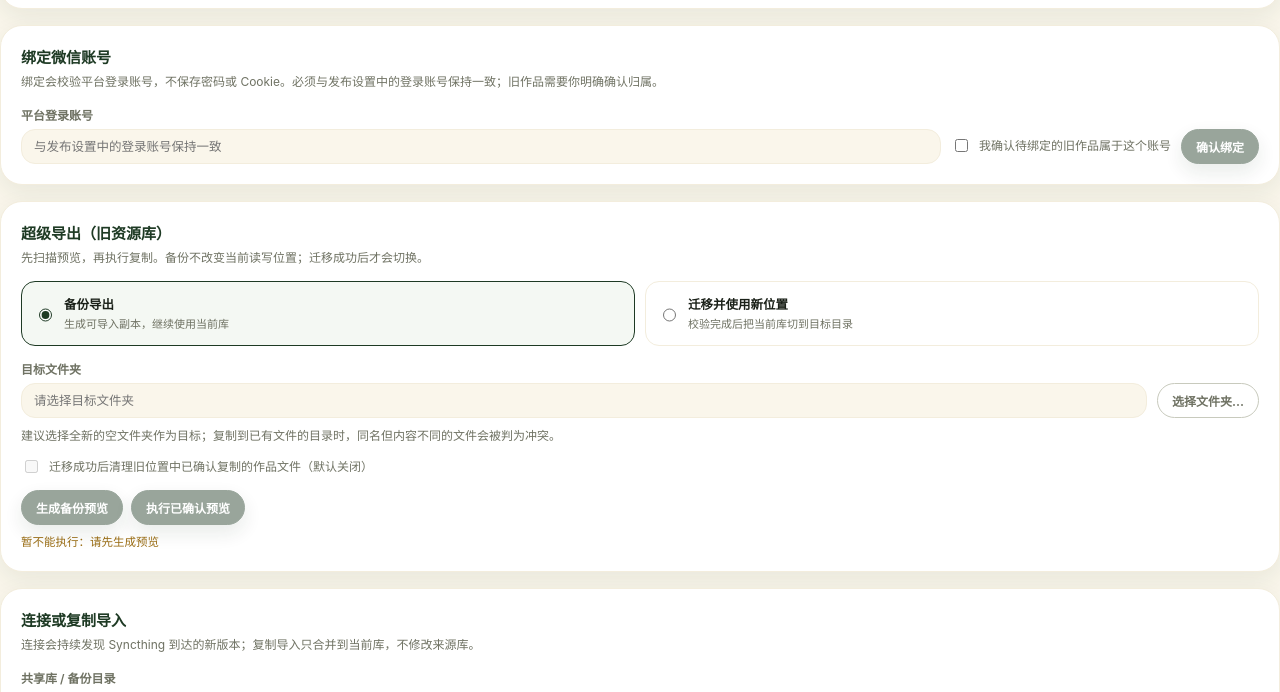
账号与资源库面板 › 部分传输结果使用警示样式并保留可继续执行的提示
The image size is (1280, 692).
(page scrolled)
Click the button with test id "export-target".
click(1208, 400)  # box [1157,383,1259,418]
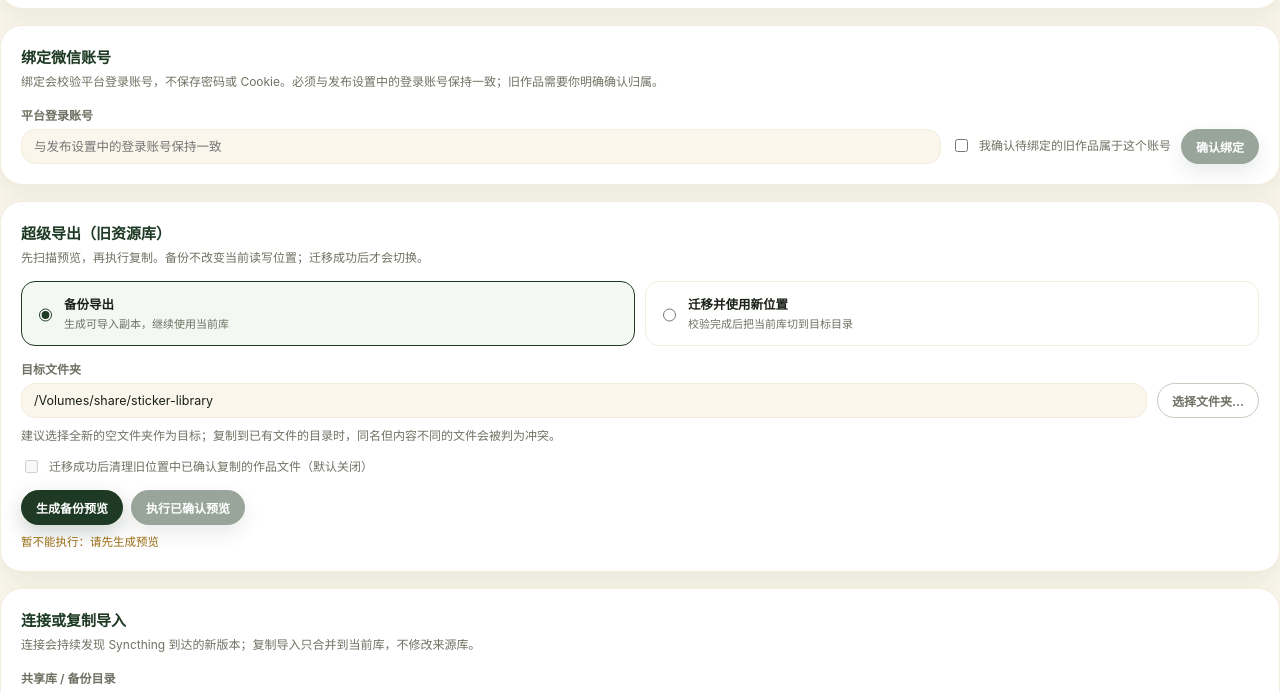
Click the button with test id "preview-export".
click(72, 507)  # box [21,490,123,525]
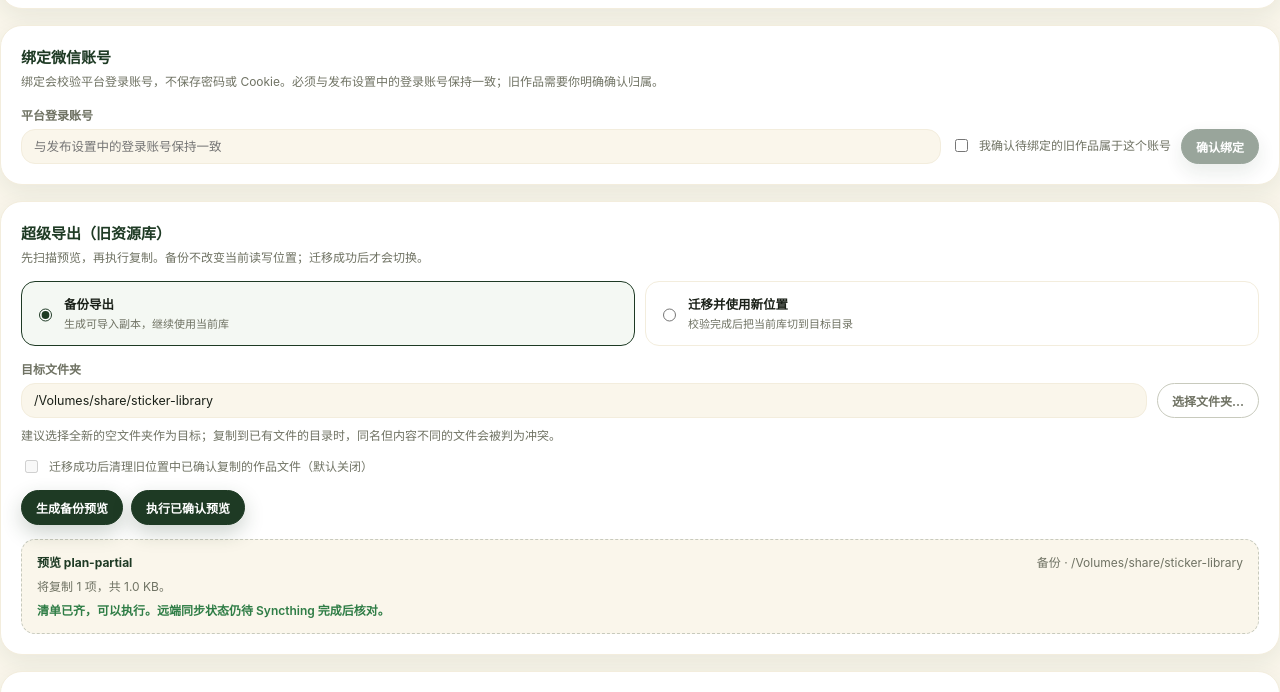
Click the button with test id "execute-export".
click(188, 507)  # box [131,490,245,525]
(page scrolled)
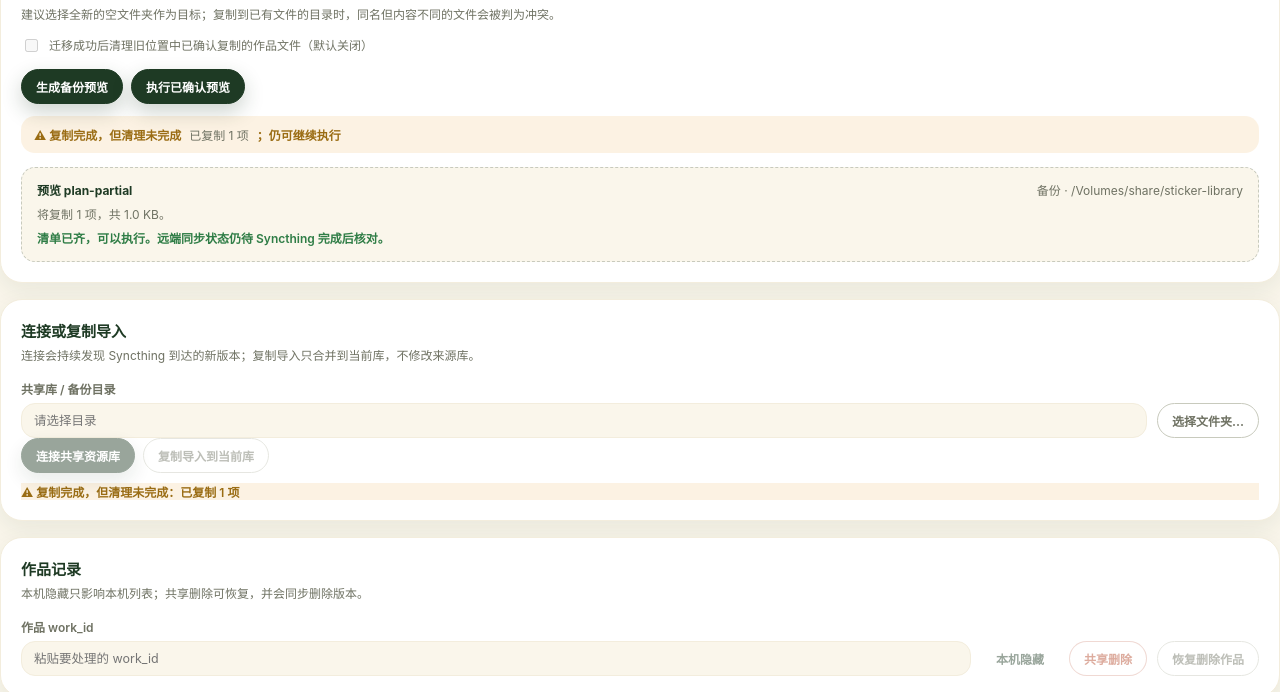
Expected: the text "仍可继续" is shown, [257,128,341,143]
